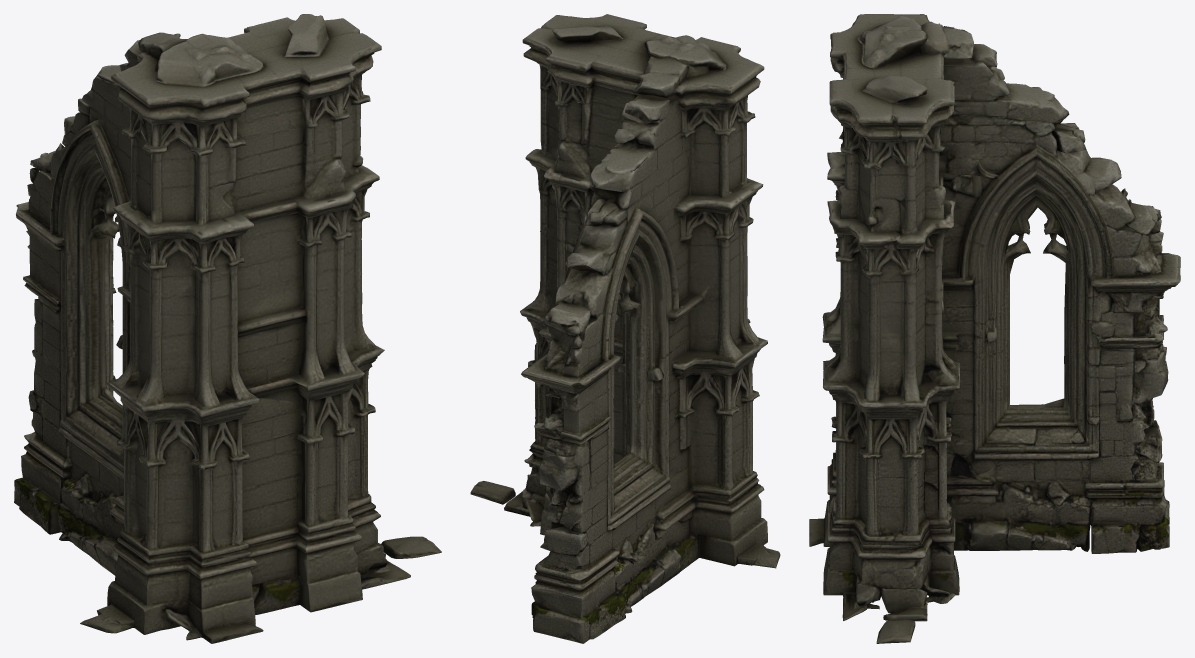
Rendered from buttress.glb.
3 renders of one model, left to right at view 1: azimuth 30°, elevation 25°; view 2: azimuth 150°, elevation 25°; view 3: azimuth 270°, elevation 25°, orthographic. The views are drawn at different scales.
Visible parts, largest first — view 1: tripo_node_fefffd4f-81f6-4897-af1f-bd9104d7a6d0; view 2: tripo_node_fefffd4f-81f6-4897-af1f-bd9104d7a6d0; view 3: tripo_node_fefffd4f-81f6-4897-af1f-bd9104d7a6d0.
Boxes of the visible parts, box(x1,y1,x2,y2) form: tripo_node_fefffd4f-81f6-4897-af1f-bd9104d7a6d0: box(14, 14, 441, 643); tripo_node_fefffd4f-81f6-4897-af1f-bd9104d7a6d0: box(470, 14, 780, 643); tripo_node_fefffd4f-81f6-4897-af1f-bd9104d7a6d0: box(809, 14, 1180, 643).
Size of the model in its own units: 1.62 by 2.5 by 1.64.
Materials: 1 (1 with a texture image).
